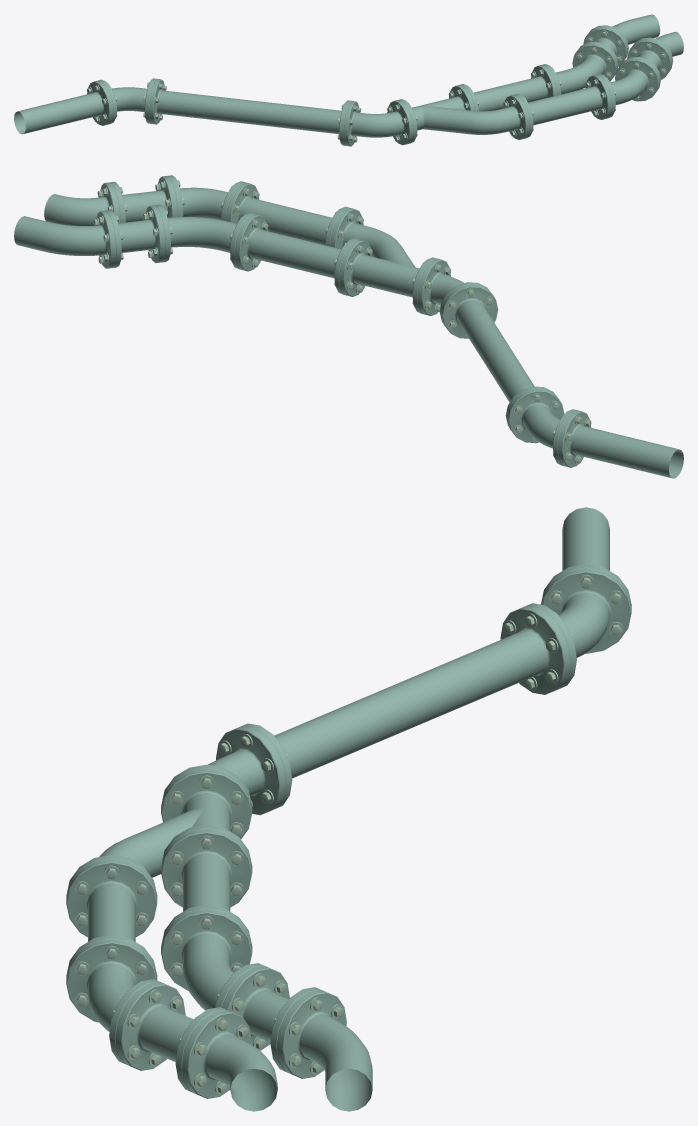
The model's file is PipeComplexLarge_A3_15.fbx.
3 renders of one model, top to bottom at view 1: azimuth 30°, elevation 25°; view 2: azimuth 150°, elevation 25°; view 3: azimuth 270°, elevation 25°, orthographic. The views are drawn at different scales.
Visible parts, largest first — view 1: PipeComplexLarge_A3_15.001; view 2: PipeComplexLarge_A3_15.001; view 3: PipeComplexLarge_A3_15.001.
Boxes of the visible parts, box(x1,y1,x2,y2) form: PipeComplexLarge_A3_15.001: box(14, 14, 683, 146); PipeComplexLarge_A3_15.001: box(14, 175, 683, 478); PipeComplexLarge_A3_15.001: box(66, 507, 631, 1111).
Bounding box in the file's own units: 5.6 × 0.3846 × 2.38.
